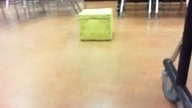cube: (78, 8, 113, 41)
